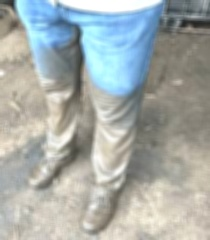earth: (96, 97, 136, 178), (47, 82, 77, 158), (40, 49, 76, 82)
